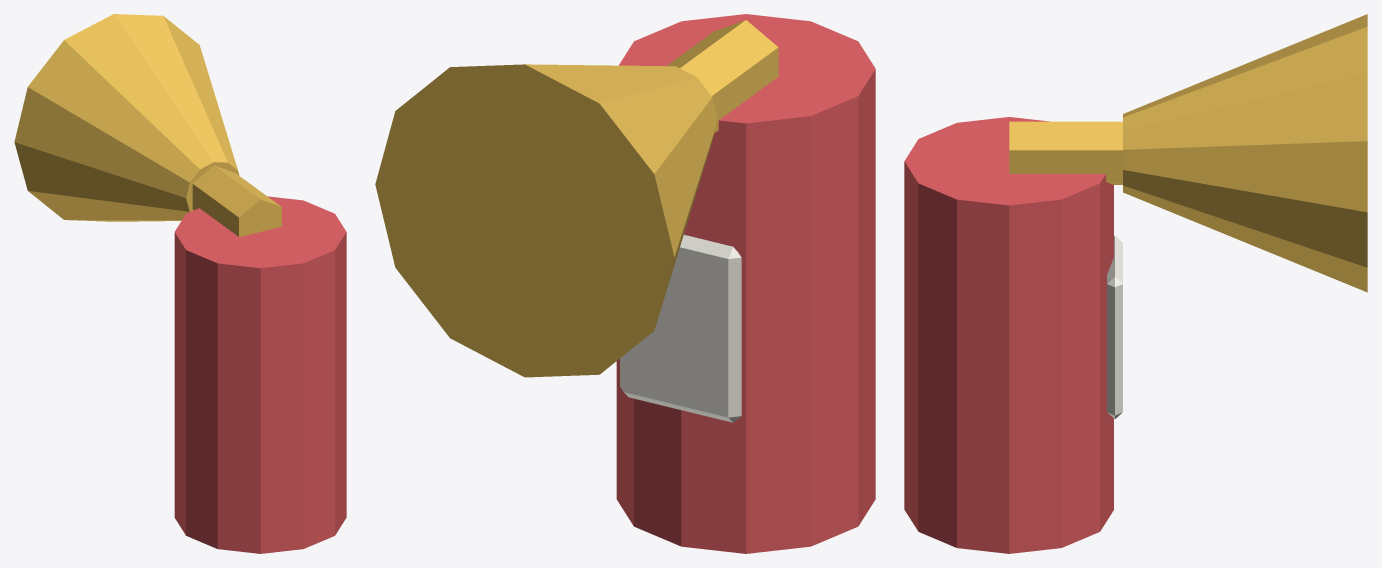
File: howl_horn.glb
3 views of the same model, side by side, from view 1: azimuth 30°, elevation 25°; view 2: azimuth 150°, elevation 25°; view 3: azimuth 270°, elevation 25° (orthographic). The views are drawn at different scales.
Parts seen in each view (by area): view 1: howl_horn; view 2: howl_horn; view 3: howl_horn.
Boxes of the visible parts, <box> form: howl_horn: <box>14,14,346,553</box>; howl_horn: <box>375,14,875,553</box>; howl_horn: <box>904,14,1367,553</box>.
Size of the model in its own units: 0.32 by 0.61 by 0.53.
